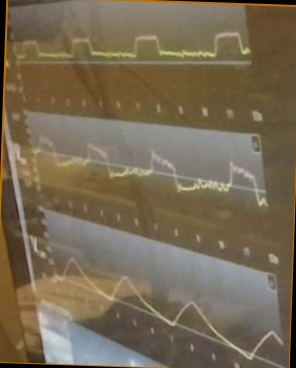Accumulation Flow: (32, 131, 267, 206)
Volume: (54, 254, 282, 360)
